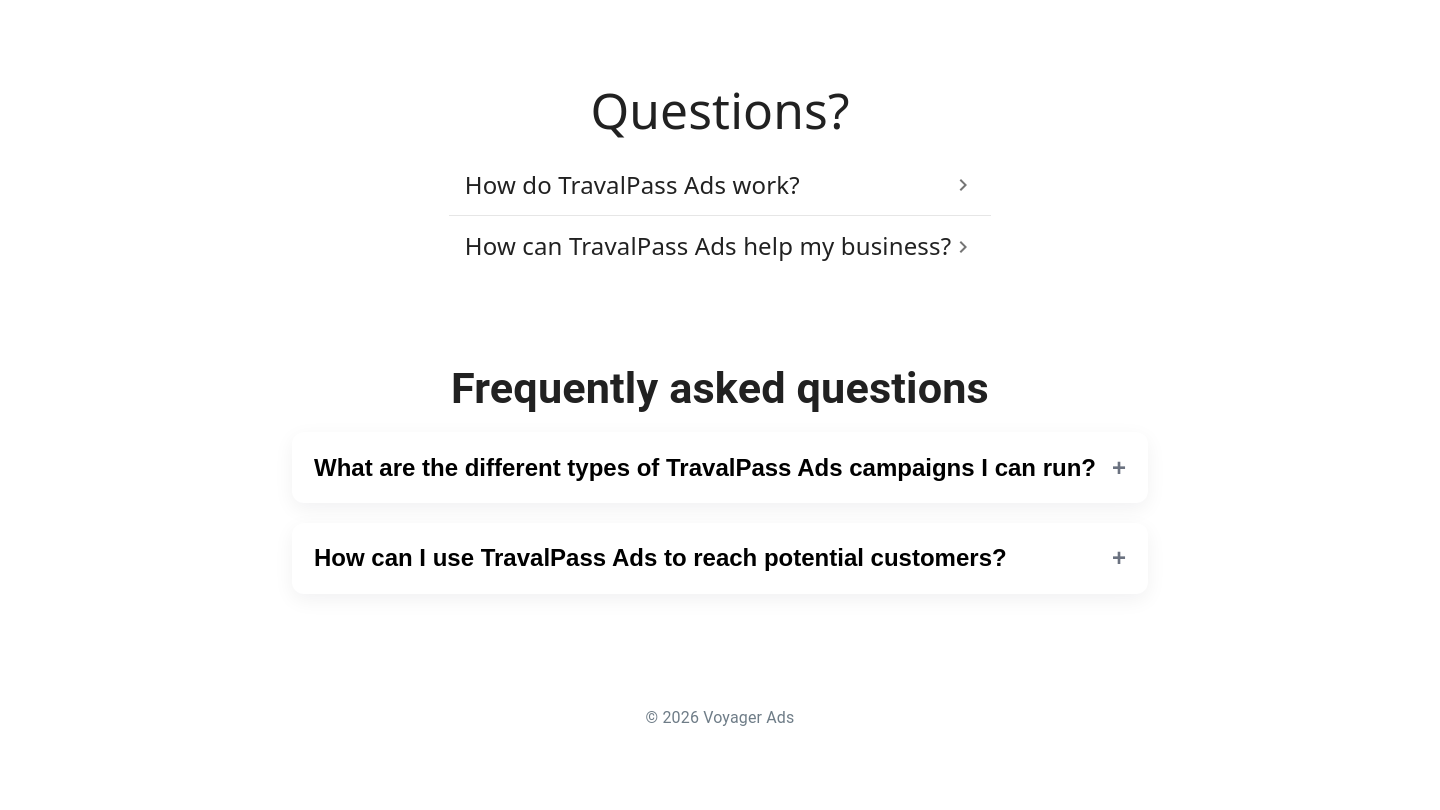
Test: Landing page › FAQ opens item when clicked and shows bullet list
The image size is (1440, 810).
(page scrolled)
Click the button "What are the different types" at (720, 468), box 292,432 -> 1148,503
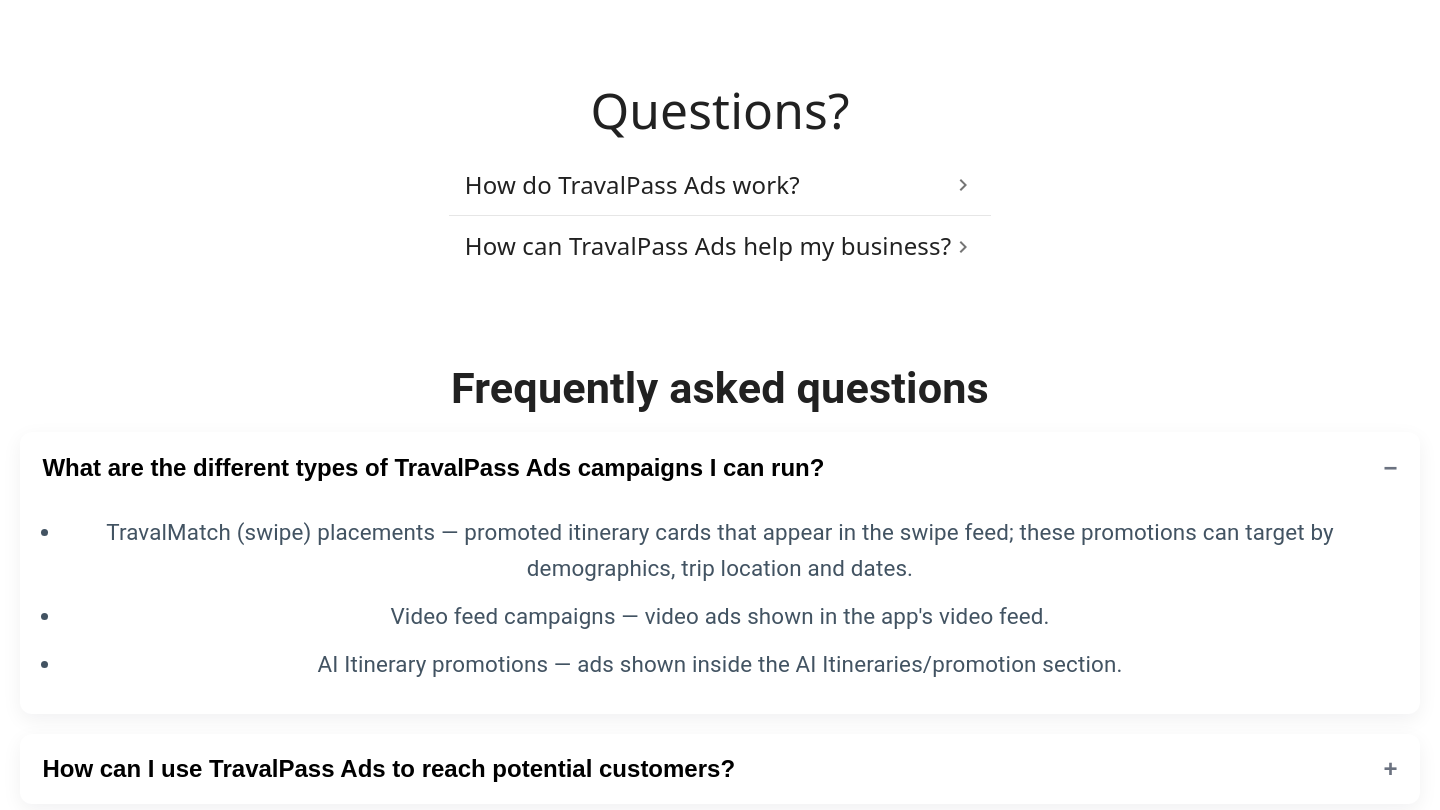
expect the button "What are the different types" is expanded: met, box 20,432 -> 1420,503
